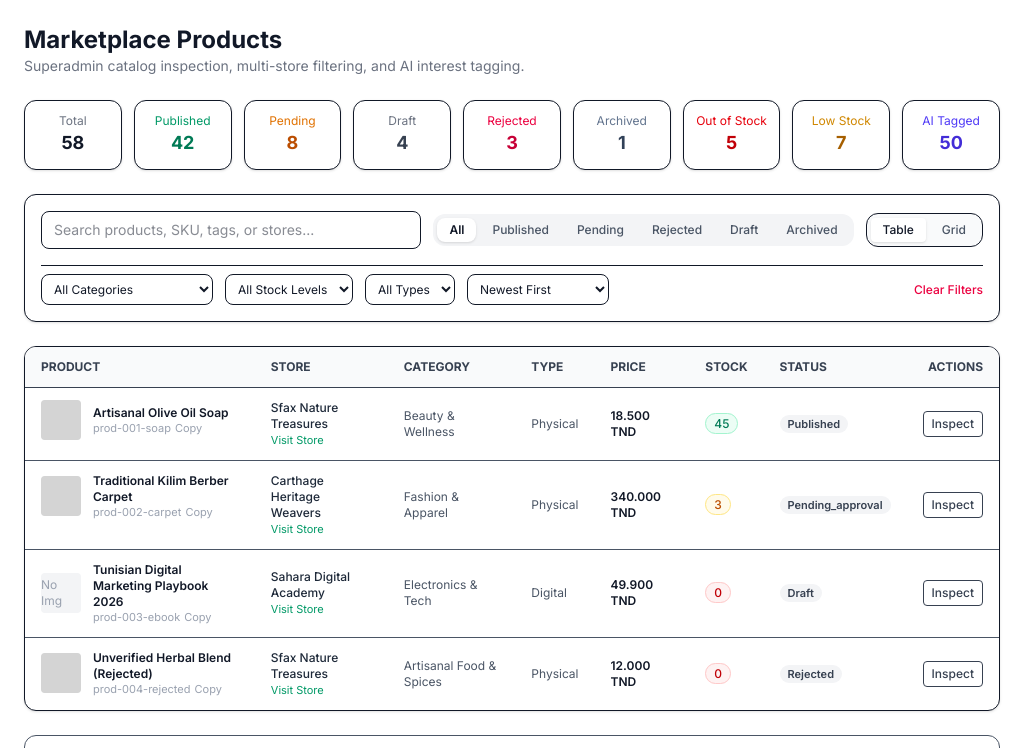
Test: Superadmin Marketplace Products Hub (`/products`) — Component & Integration Suite › Suite 5: Slide-Out Inspection Drawer & Tag Studio Mutation › opens inspection drawer when a product row or Inspect button is clicked
The width and height of the screenshot is (1024, 748).
expect the text "Artisanal Olive Oil Soap" is shown: met, box [93, 405, 228, 421]
Click the button "Inspect" in the row of "Artisanal Olive Oil Soap" at x=953, y=424, box [923, 411, 983, 437]
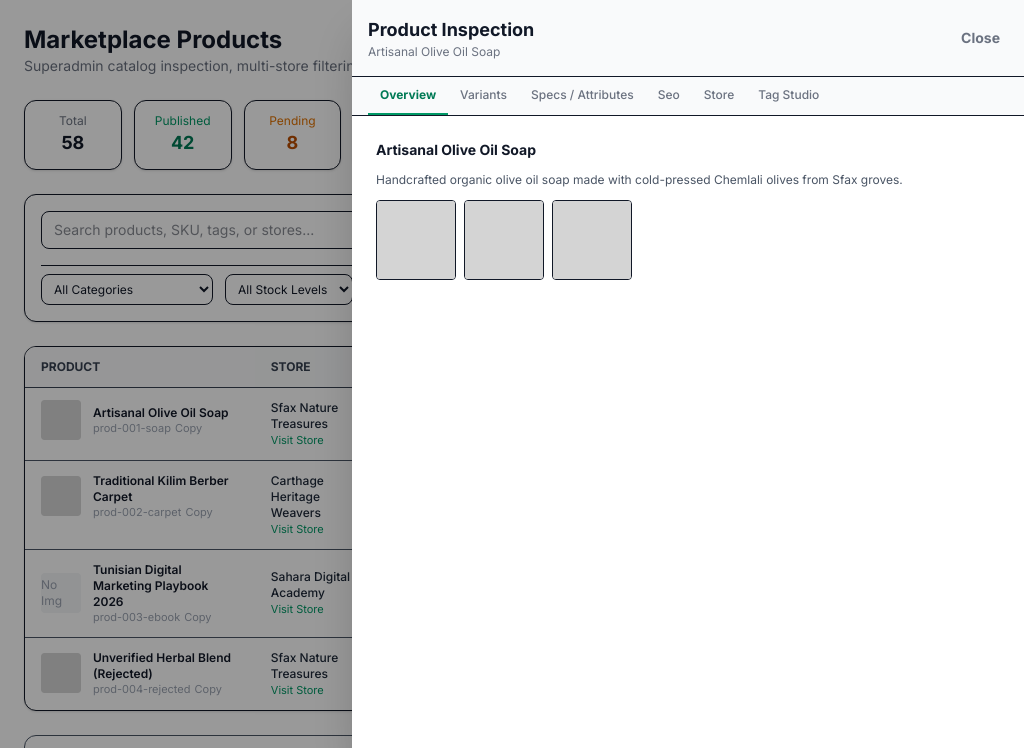
expect the heading "Product Inspection" is shown: met, box [368, 16, 534, 44]
